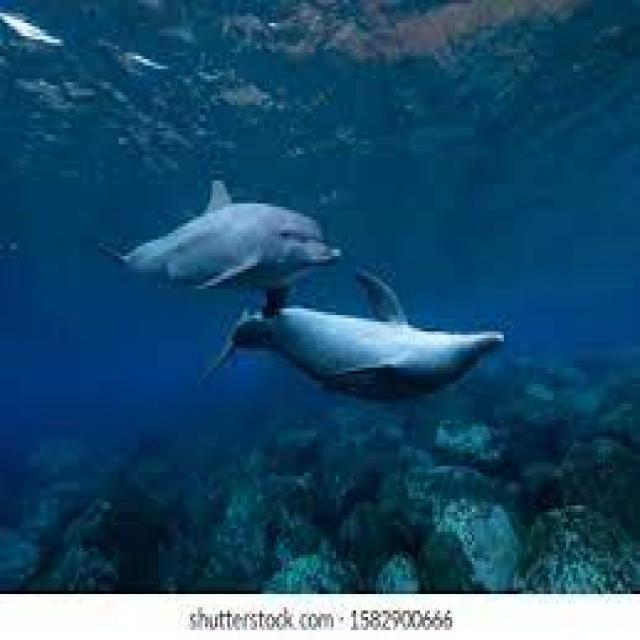dolphin: (224, 276, 522, 453), (94, 148, 344, 289)
